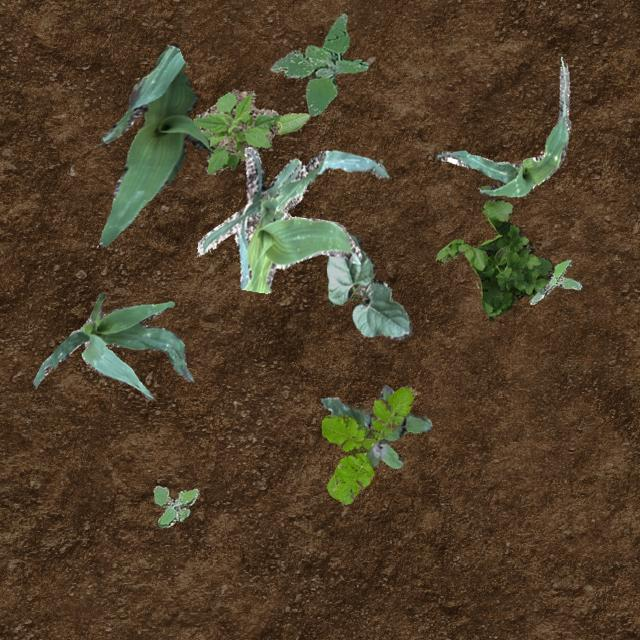crop: (195, 146, 387, 292), (99, 42, 212, 245), (436, 60, 570, 196), (31, 292, 191, 398), (326, 230, 410, 338), (272, 112, 308, 134)
weed: (436, 198, 554, 320), (321, 384, 416, 504), (270, 12, 368, 116), (320, 383, 430, 468), (192, 88, 280, 174), (528, 258, 580, 304), (152, 484, 198, 526), (537, 286, 543, 292)
